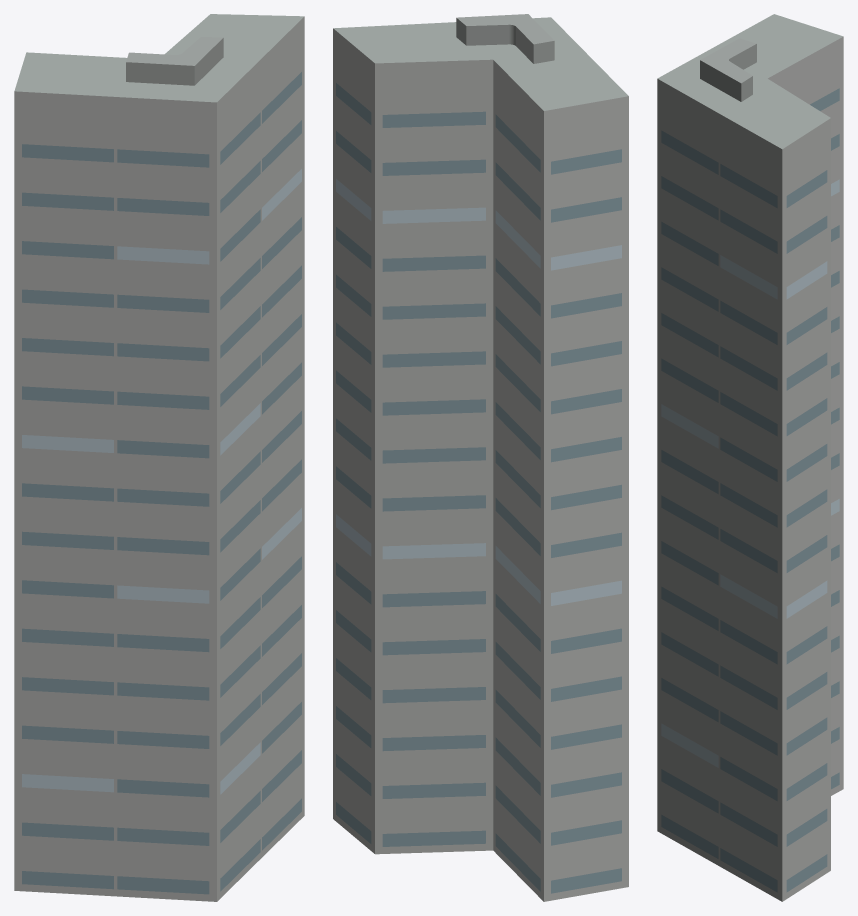
File: fallback-jamsil-ricenz-246.glb
3 views of the same model, side by side, from view 1: azimuth 30°, elevation 25°; view 2: azimuth 150°, elevation 25°; view 3: azimuth 270°, elevation 25° (orthographic). The views are drawn at different scales.
Visible parts, largest first — view 1: fallback-jamsil-ricenz-246; view 2: fallback-jamsil-ricenz-246; view 3: fallback-jamsil-ricenz-246.
Part boxes in pixels (box(x1,y1,x2,y2)): fallback-jamsil-ricenz-246: box(14, 14, 304, 901); fallback-jamsil-ricenz-246: box(333, 14, 628, 901); fallback-jamsil-ricenz-246: box(657, 14, 843, 901).
Bounding box in the file's own units: 37.25 × 99 × 21.68.
